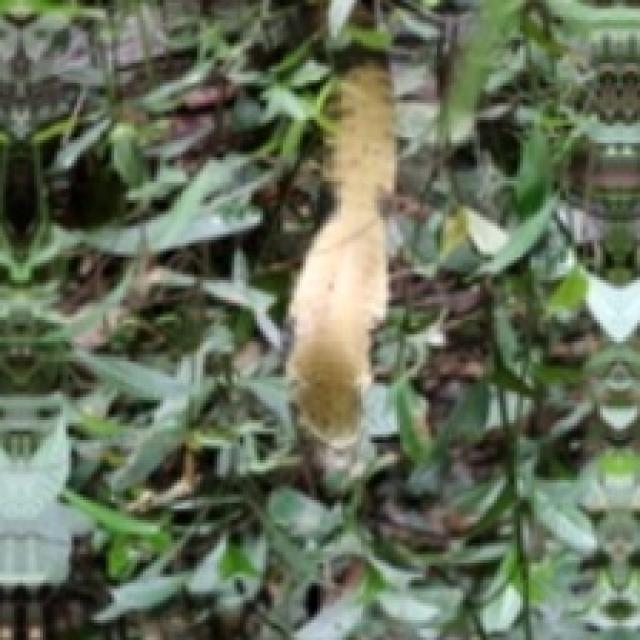king cobra: (289, 60, 394, 446)
